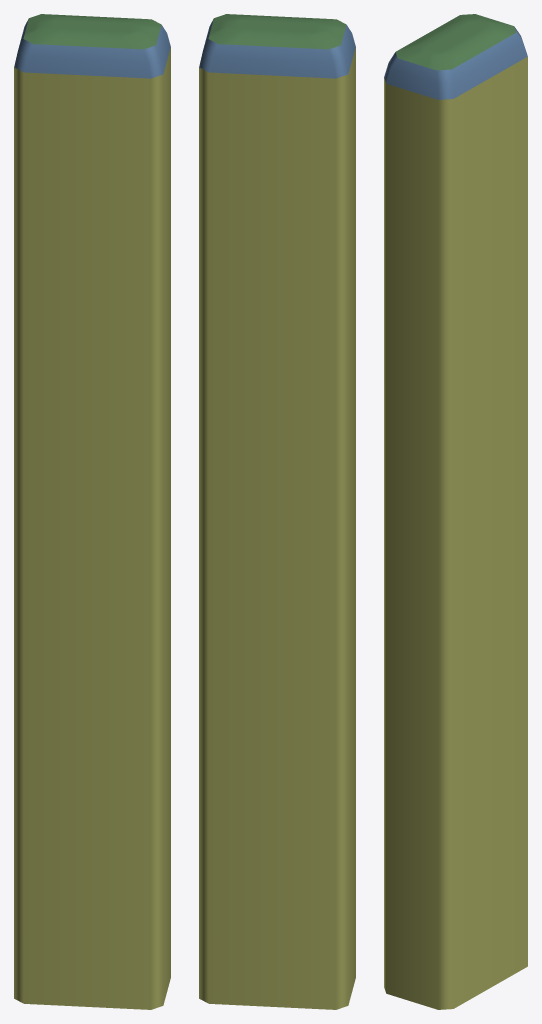
File: Mini_PLat10.fbx
3 views of the same model, side by side, from view 1: azimuth 30°, elevation 25°; view 2: azimuth 210°, elevation 25°; view 3: azimuth 270°, elevation 25° (orthographic). The views are drawn at different scales.
Parts seen in each view (by area): view 1: Mini_Plat6, Wall7, Ground9; view 2: Mini_Plat6, Wall7, Ground9; view 3: Mini_Plat6, Wall7, Ground9.
Part boxes in pixels (x1=…): Mini_Plat6: x1=14, y1=47, x2=170, y2=1009; Wall7: x1=14, y1=19, x2=170, y2=78; Ground9: x1=23, y1=14, x2=161, y2=49; Mini_Plat6: x1=199, y1=47, x2=355, y2=1009; Wall7: x1=199, y1=19, x2=355, y2=78; Ground9: x1=208, y1=14, x2=346, y2=49; Mini_Plat6: x1=384, y1=56, x2=527, y2=1009; Wall7: x1=384, y1=27, x2=527, y2=99; Ground9: x1=395, y1=14, x2=516, y2=70.
Size of the model in its own units: 2172 by 14394 by 1997.
